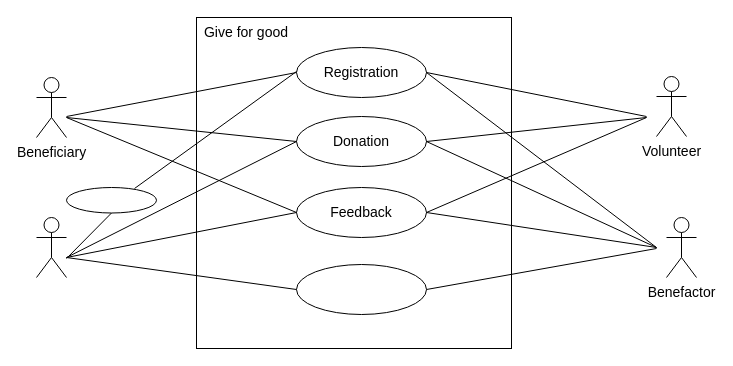
Image size: 733x366. Some labels were removed from this diagram. The centre of each missing label's shape, as x and y in pixels:
Admin: (51,247)
Authentication: (111,199)
Report: (361,289)
